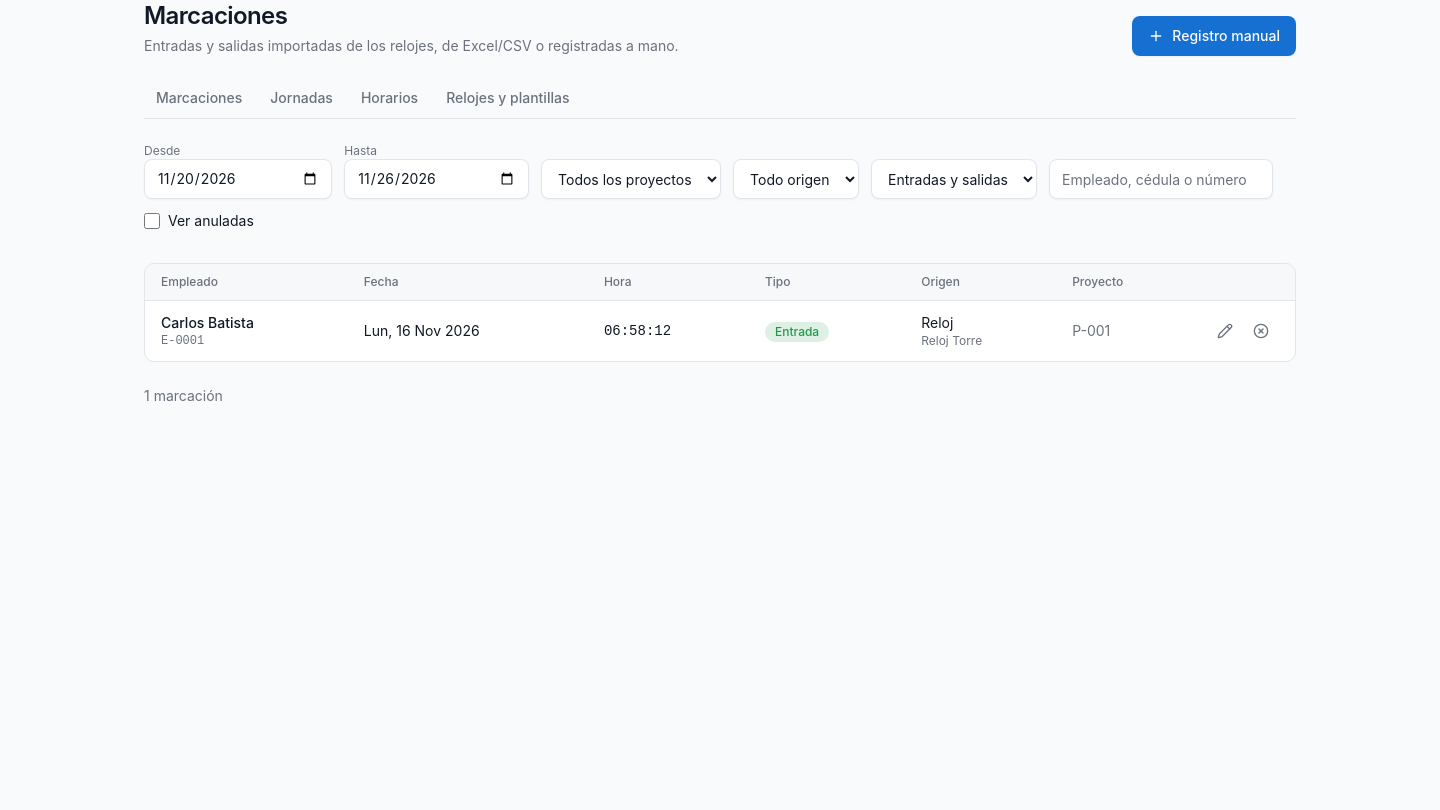
Scenario: PunchesPage › con permiso manual permite registrar y corregir
The width and height of the screenshot is (1440, 810).
Click the button named "Corregir" at (1225,331), box [1207,313,1243,349]
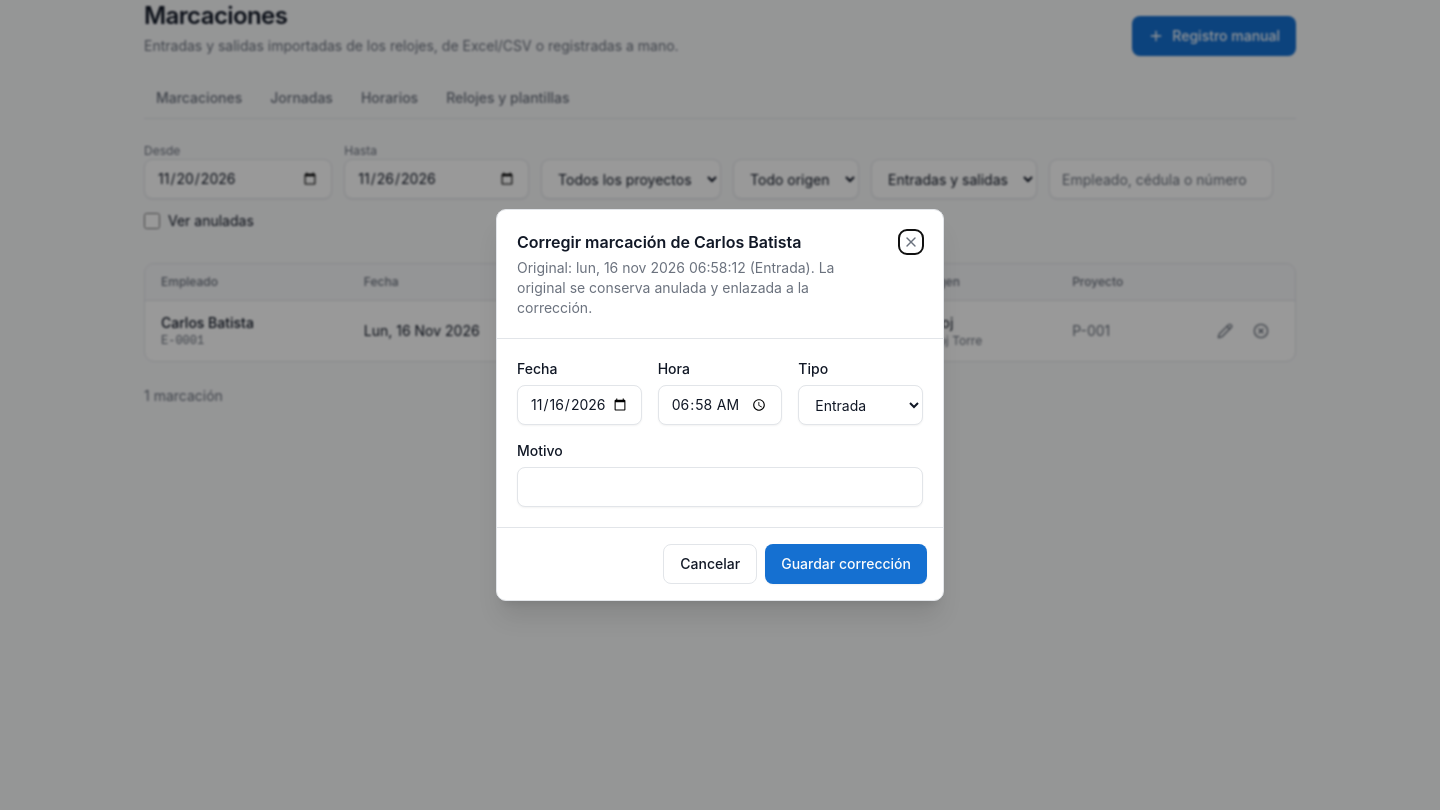
Check: the time field labelled "Hora" holds "06:58", box [658,385,782,425]
Check: the date field labelled "Fecha" holds "2026-11-16", box [517,385,642,425]
